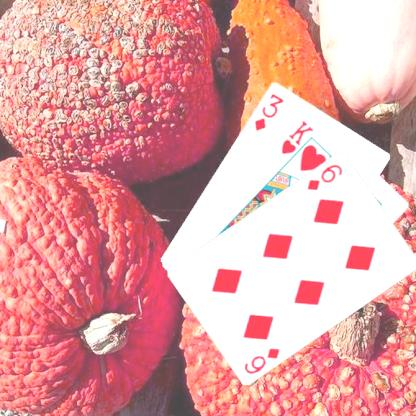3D: (251, 90, 285, 132)
6D: (304, 161, 344, 192), (241, 344, 281, 375)
KH: (278, 117, 315, 156)
